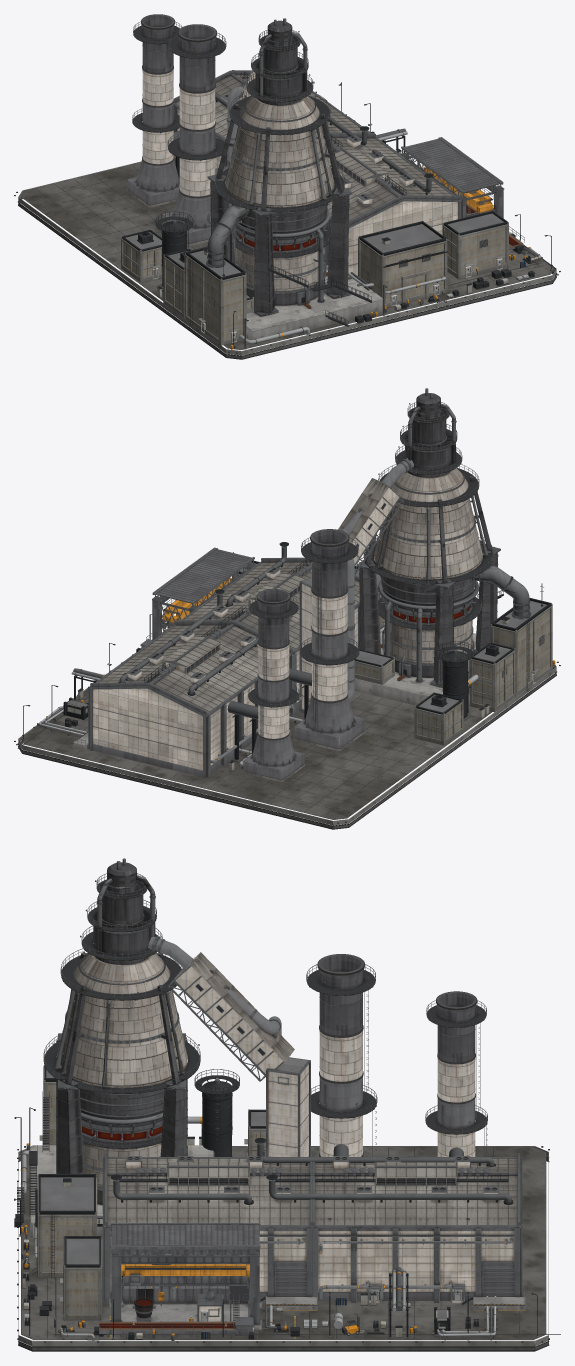
The model's file is steel_mill.glb.
3 renders of one model, top to bottom at view 1: azimuth 30°, elevation 25°; view 2: azimuth 150°, elevation 25°; view 3: azimuth 270°, elevation 25°, orthographic. The views are drawn at different scales.
Parts seen in each view (by area): view 1: hull, parts_colony-blastFurnace, parts_colony-bandedStack, parts_colony-shedSegment, parts_colony-pourBay, parts_colony-skipGallery; view 2: hull, parts_colony-blastFurnace, parts_colony-shedSegment, parts_colony-bandedStack, parts_colony-skipGallery, parts_colony-pourBay; view 3: hull, parts_colony-shedSegment, parts_colony-blastFurnace, parts_colony-bandedStack, parts_colony-pourBay, parts_colony-skipGallery.
Boxes of the visible parts, <box> form: hull: <box>14,72,560,359</box>; parts_colony-blastFurnace: <box>206,18,382,339</box>; parts_colony-bandedStack: <box>127,14,226,246</box>; parts_colony-shedSegment: <box>173,70,463,276</box>; parts_colony-pourBay: <box>399,137,524,249</box>; parts_colony-skipGallery: <box>206,70,255,223</box>; hull: <box>14,542,560,829</box>; parts_colony-blastFurnace: <box>354,388,531,706</box>; parts_colony-shedSegment: <box>73,557,380,778</box>; parts_colony-bandedStack: <box>242,529,365,782</box>; parts_colony-skipGallery: <box>299,458,413,713</box>; parts_colony-pourBay: <box>140,547,256,648</box>; hull: <box>14,1043,560,1351</box>; parts_colony-shedSegment: <box>102,1153,525,1310</box>; parts_colony-blastFurnace: <box>30,858,214,1238</box>; parts_colony-bandedStack: <box>306,954,487,1156</box>; parts_colony-pourBay: <box>99,1223,261,1337</box>; parts_colony-skipGallery: <box>148,936,310,1156</box>.
Bounding box in the file's own units: 81.55 × 67.27 × 94.85.
Materials: 12 (12 with a texture image).
